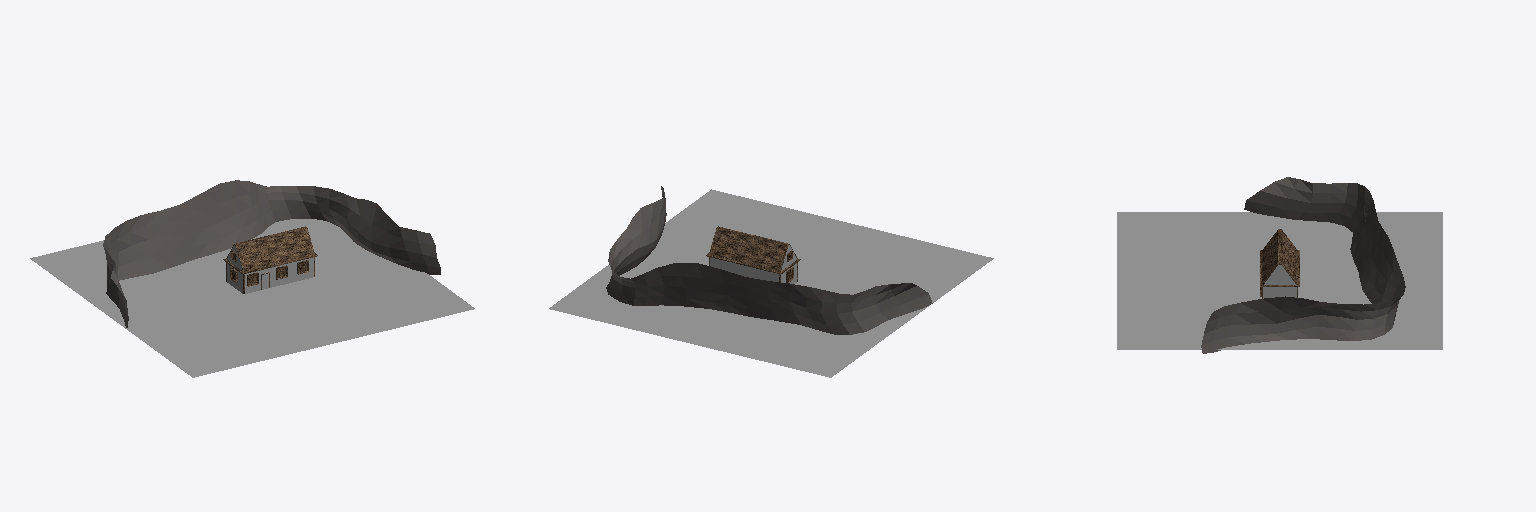
3 views of the same model, side by side, from view 1: azimuth 30°, elevation 25°; view 2: azimuth 150°, elevation 25°; view 3: azimuth 270°, elevation 25° (orthographic).
Parts seen in each view (by area): view 1: Plane, Plane.001, Cube_Cube.001; view 2: Plane, Plane.001, Cube_Cube.001; view 3: Plane, Plane.001, Cube_Cube.001.
Part boxes in pixels (left/top/right/bottom): Plane: left=30, top=219, right=474, bottom=377; Plane.001: left=103, top=180, right=440, bottom=327; Cube_Cube.001: left=223, top=226, right=317, bottom=293; Plane: left=549, top=189, right=993, bottom=377; Plane.001: left=606, top=186, right=932, bottom=334; Cube_Cube.001: left=706, top=226, right=800, bottom=283; Plane: left=1117, top=212, right=1442, bottom=349; Plane.001: left=1201, top=177, right=1405, bottom=353; Cube_Cube.001: left=1260, top=229, right=1299, bottom=298.
Bounding box in the file's own units: 16.38 × 3.04 × 15.79.
Materials: 10 (2 with a texture image).